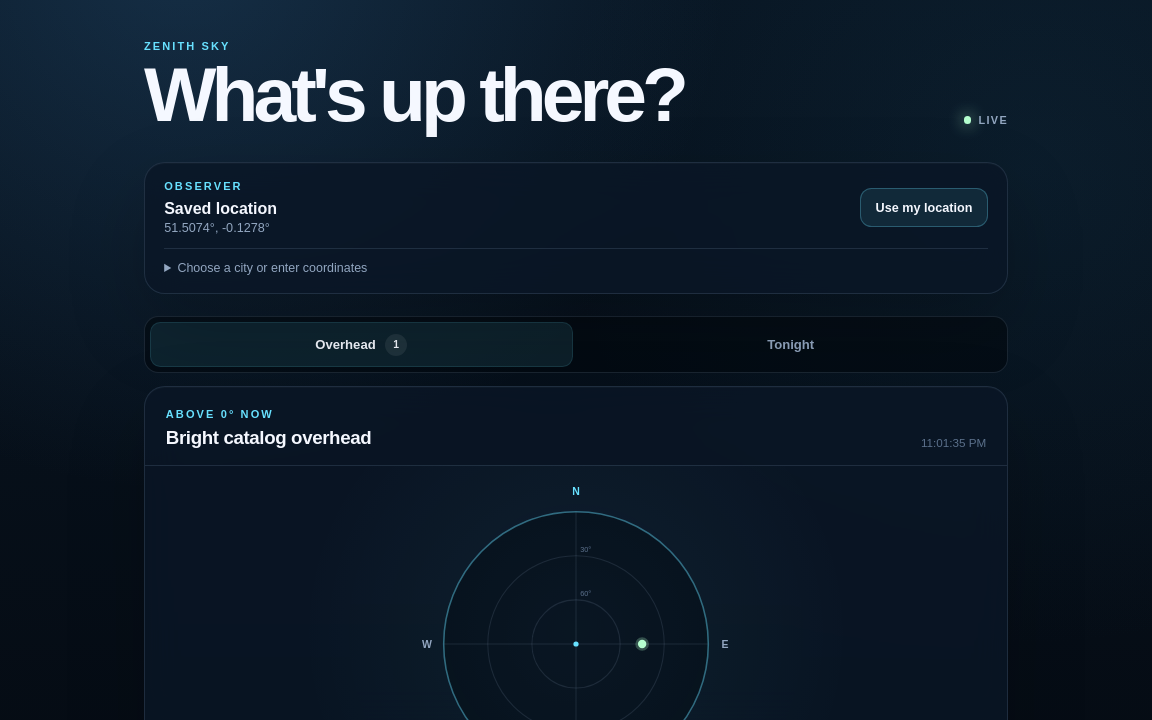
SkyApp location controls › restores legacy coordinates and clears them back to the example fallback
The width and height of the screenshot is (1152, 720).
Check: the text "Saved location" is shown, box [164,200,277,218]
Click the heading "Choose a city or enter coordinates": (272, 268) [177,261,367,275]
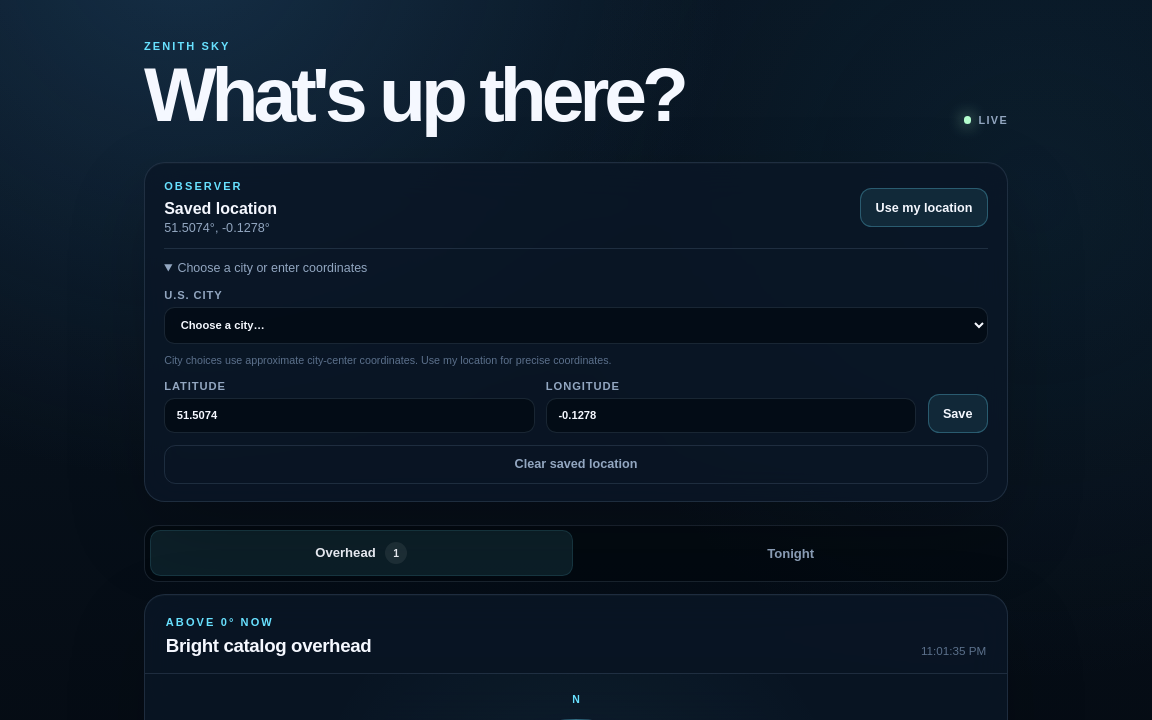
Click the button "Clear saved location": (576, 464) [164,444,988,484]
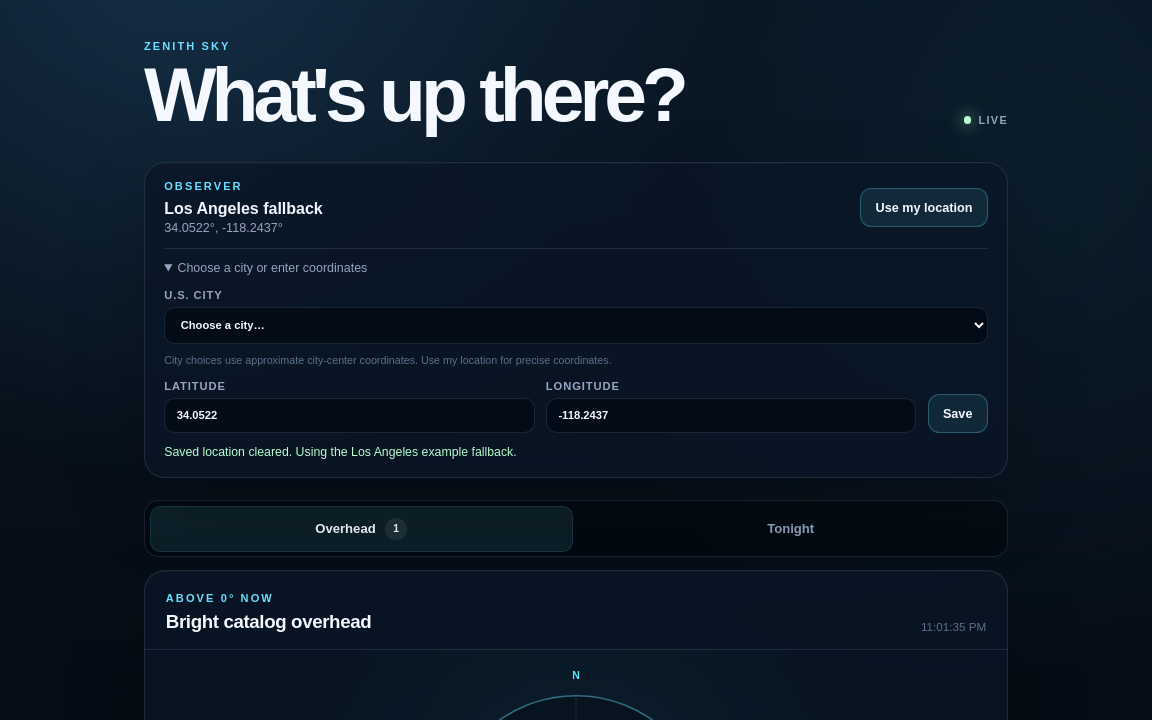
Check: the text "Los Angeles fallback" is shown, box [164,200,323,218]
